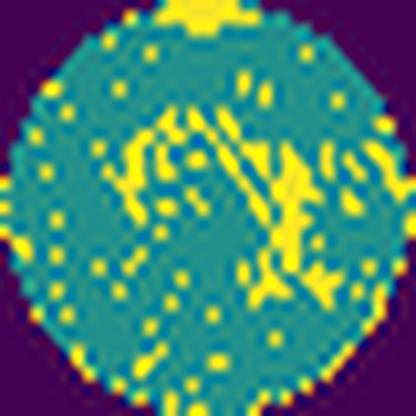Donut: (100, 96, 326, 314)
